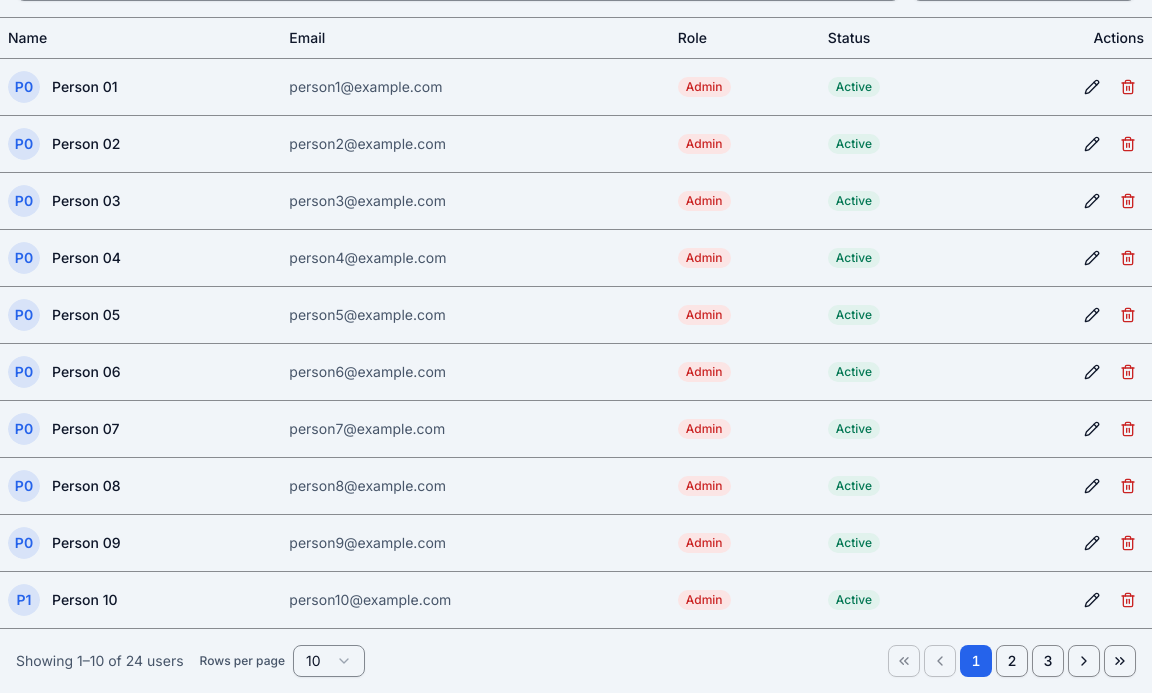
Test: <UserTable> › never offers Delete for the signed-in user, on any page
(page scrolled)
Click the button named "Go to page 2" at (1012, 660), box [996,644,1028,676]
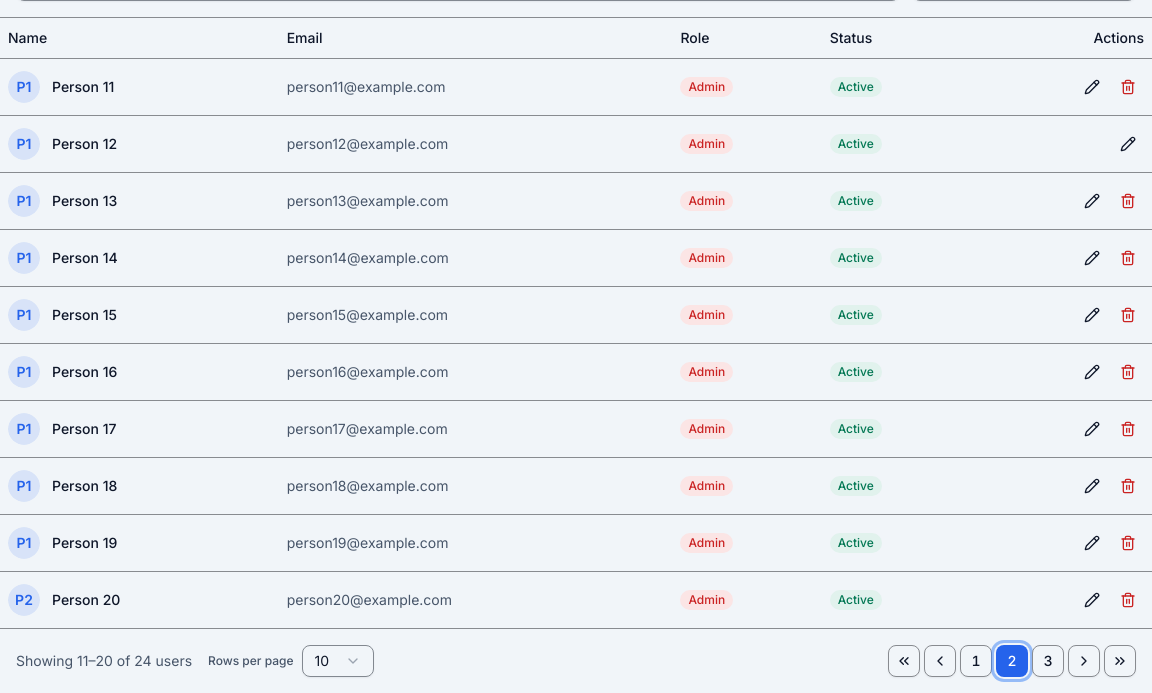
Check: the button named "Delete Person 11" is shown, box [1112,70,1144,102]
Check: the text "Person 12" is shown, box [52,134,117,154]
